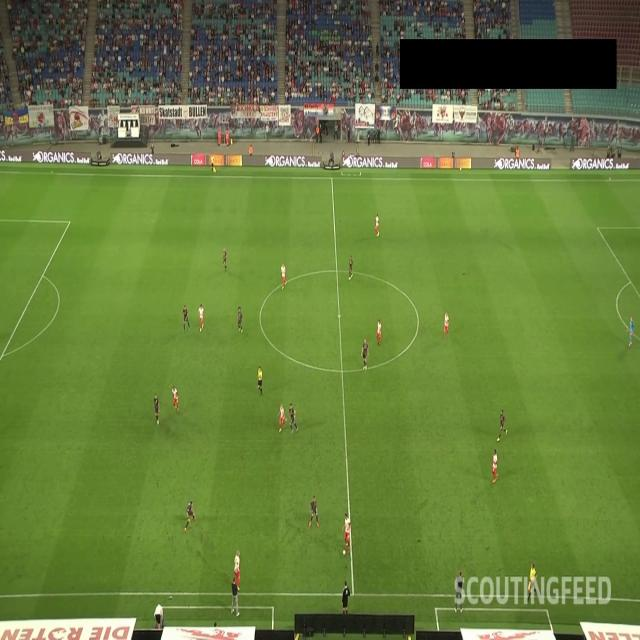ball: (342, 546, 348, 559)
player: (310, 490, 319, 529), (344, 510, 352, 551), (498, 408, 508, 440), (288, 403, 299, 432), (186, 498, 196, 527), (233, 551, 240, 588), (278, 403, 286, 434), (442, 309, 450, 339), (154, 393, 162, 423), (627, 314, 633, 349), (172, 384, 180, 410), (492, 449, 498, 482), (237, 306, 244, 334), (361, 339, 367, 370), (280, 264, 288, 286), (198, 306, 206, 328), (182, 304, 189, 329), (373, 213, 380, 235), (377, 318, 382, 348), (222, 248, 229, 269), (349, 253, 352, 284)
